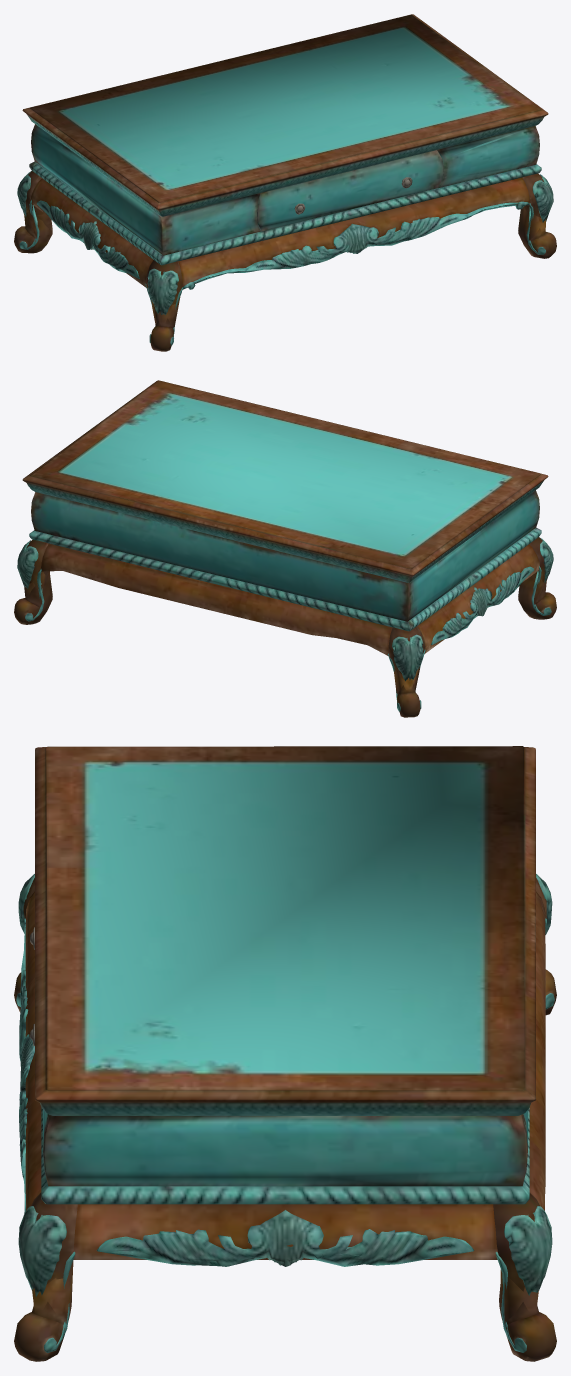
Rendered from CoffeeTable_01.glb.
3 renders of one model, top to bottom at view 1: azimuth 30°, elevation 25°; view 2: azimuth 150°, elevation 25°; view 3: azimuth 270°, elevation 25°, orthographic. The views are drawn at different scales.
Parts seen in each view (by area): view 1: CoffeeTable_01, CoffeeTable_01_lo; view 2: CoffeeTable_01, CoffeeTable_01_lo; view 3: CoffeeTable_01, CoffeeTable_01_lo.
Part boxes in pixels (x1,y1,x2,y2): CoffeeTable_01: [14, 14, 556, 351]; CoffeeTable_01_lo: [23, 114, 548, 335]; CoffeeTable_01: [14, 380, 556, 717]; CoffeeTable_01_lo: [17, 481, 547, 715]; CoffeeTable_01: [14, 746, 556, 1361]; CoffeeTable_01_lo: [19, 747, 551, 1359].
Size of the model in its own units: 1.54 by 0.5232 by 0.9728.
Materials: 1 (1 with a texture image).
